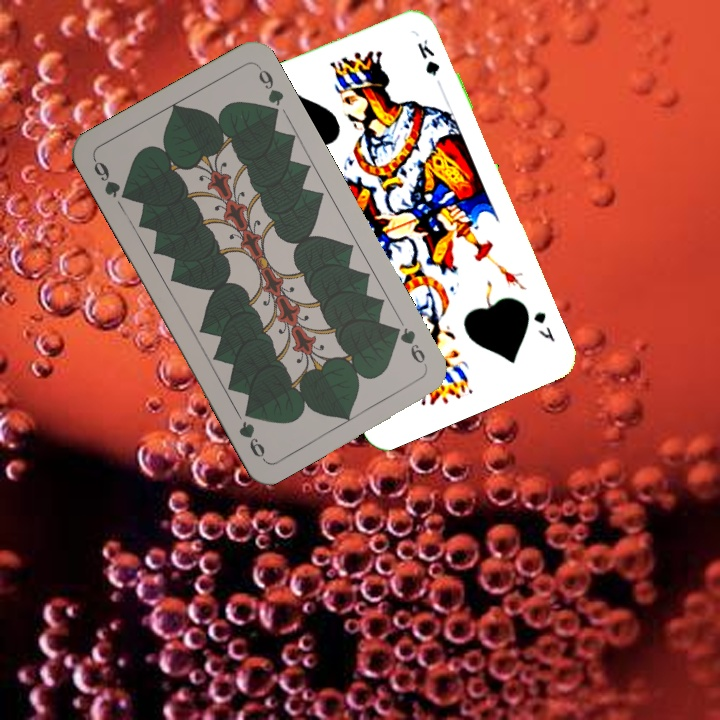G9: (89, 155, 133, 203), (387, 321, 430, 370)
GK: (529, 308, 558, 345)
